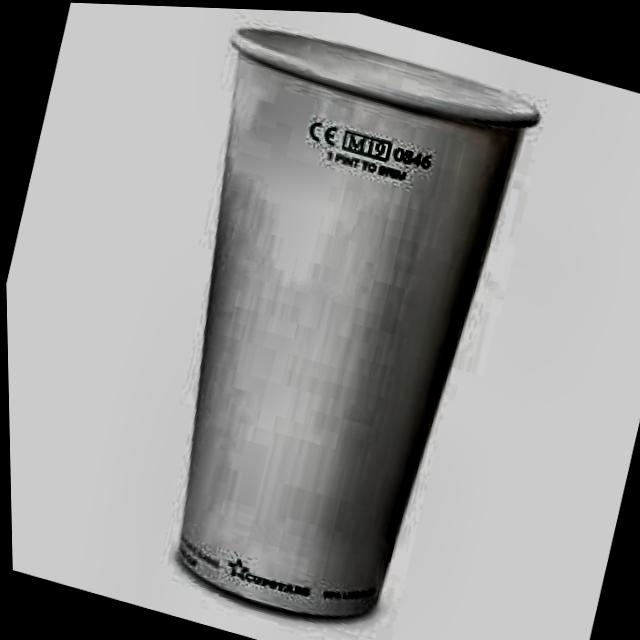Cup: (84, 2, 555, 640)
